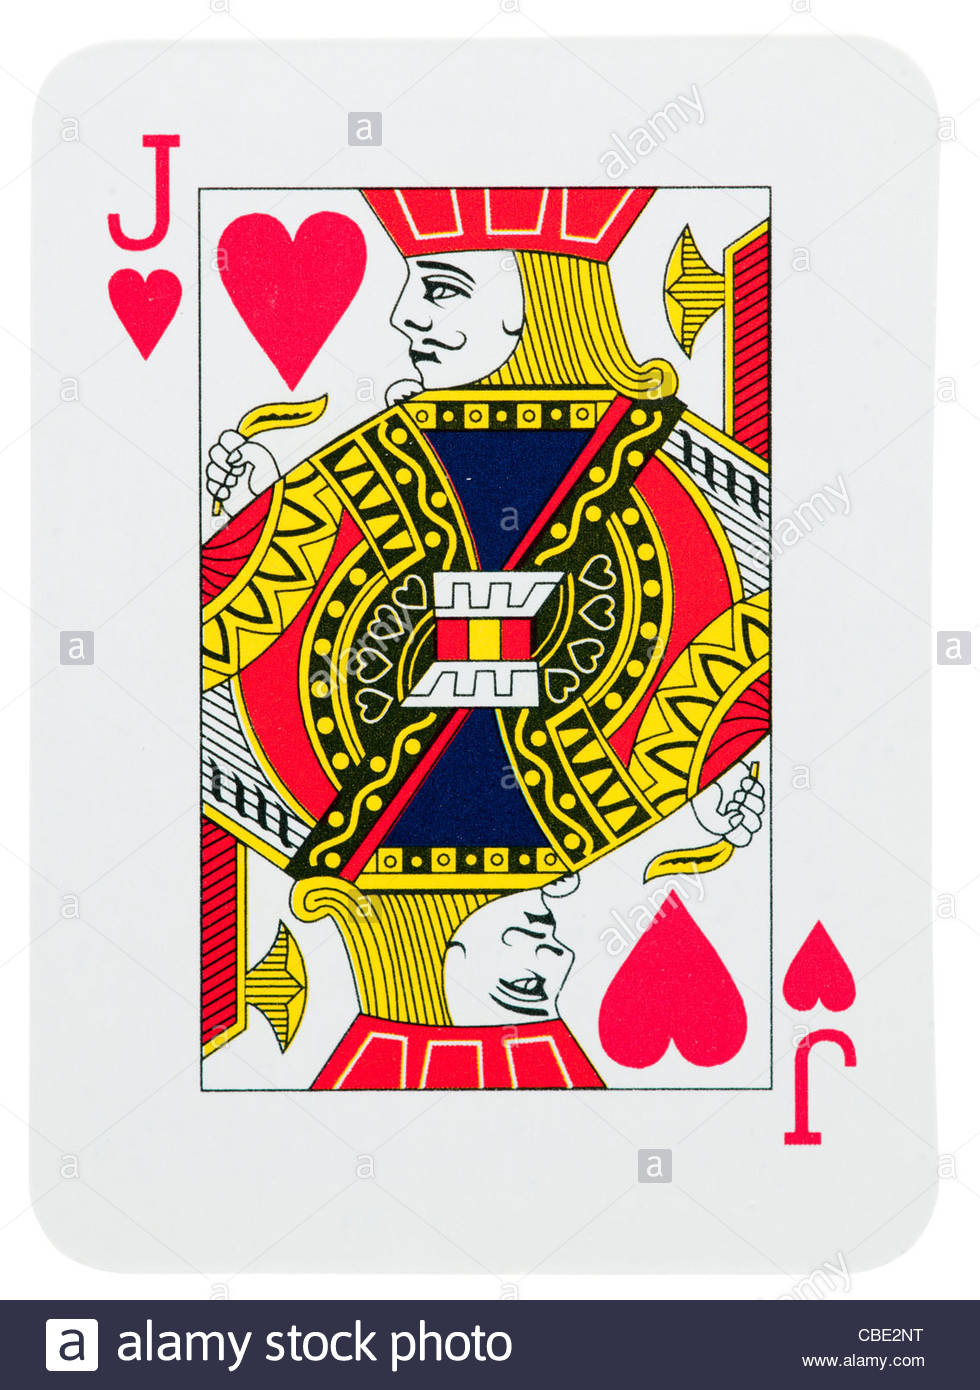jack of hearts: (62, 68, 925, 1224)
